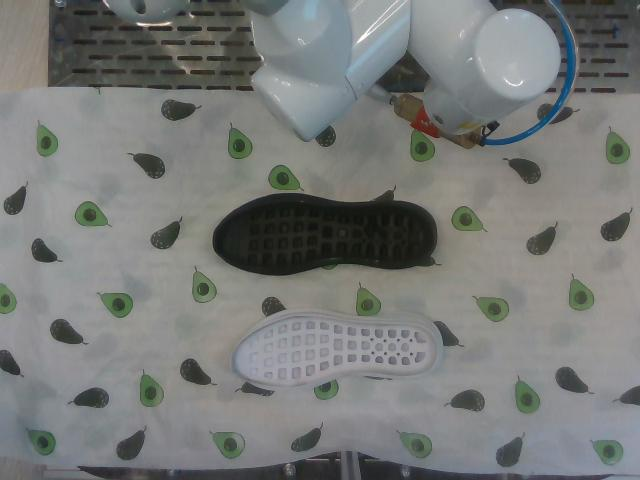shoes: (214, 201, 435, 269), (232, 315, 437, 387)
